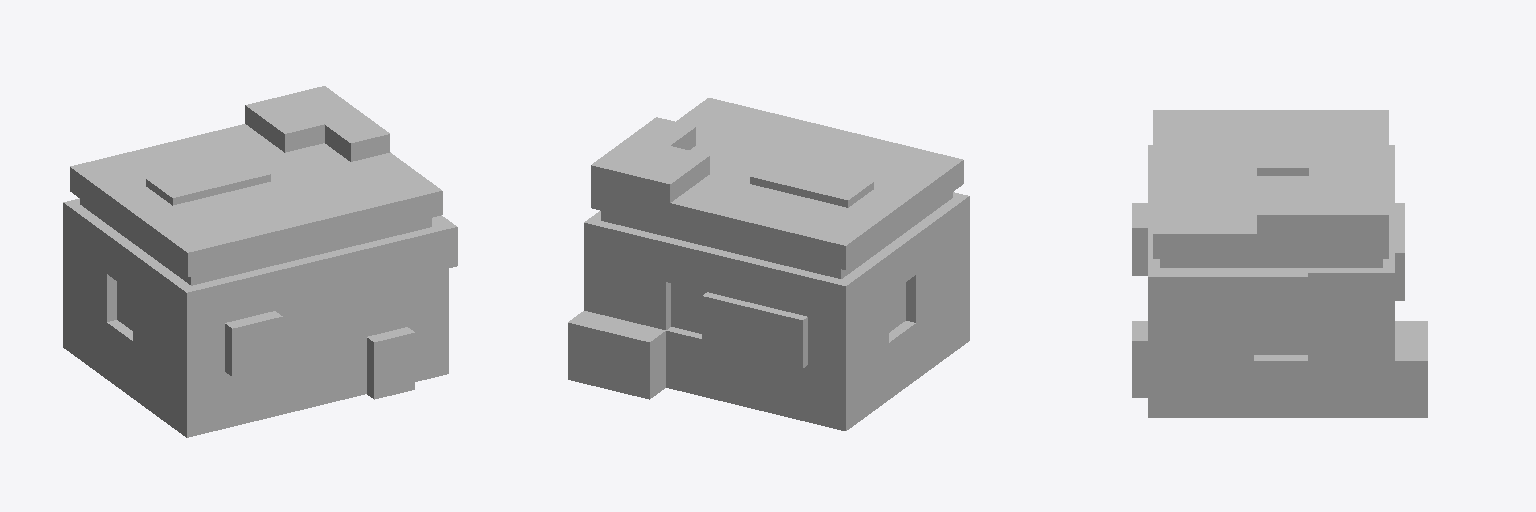
File: box_real_02.obj
The picture shows the model from 3 angles: view 1: azimuth 30°, elevation 25°; view 2: azimuth 150°, elevation 25°; view 3: azimuth 270°, elevation 25°; orthographic projection.
Parts seen in each view (by area): view 1: Cube_Cube; view 2: Cube_Cube; view 3: Cube_Cube.
Part boxes in pixels (bbox=[...]): Cube_Cube: bbox=[63, 86, 457, 437]; Cube_Cube: bbox=[568, 98, 969, 430]; Cube_Cube: bbox=[1132, 110, 1427, 417].
Bounding box in the file's own units: 390 × 277 × 369.